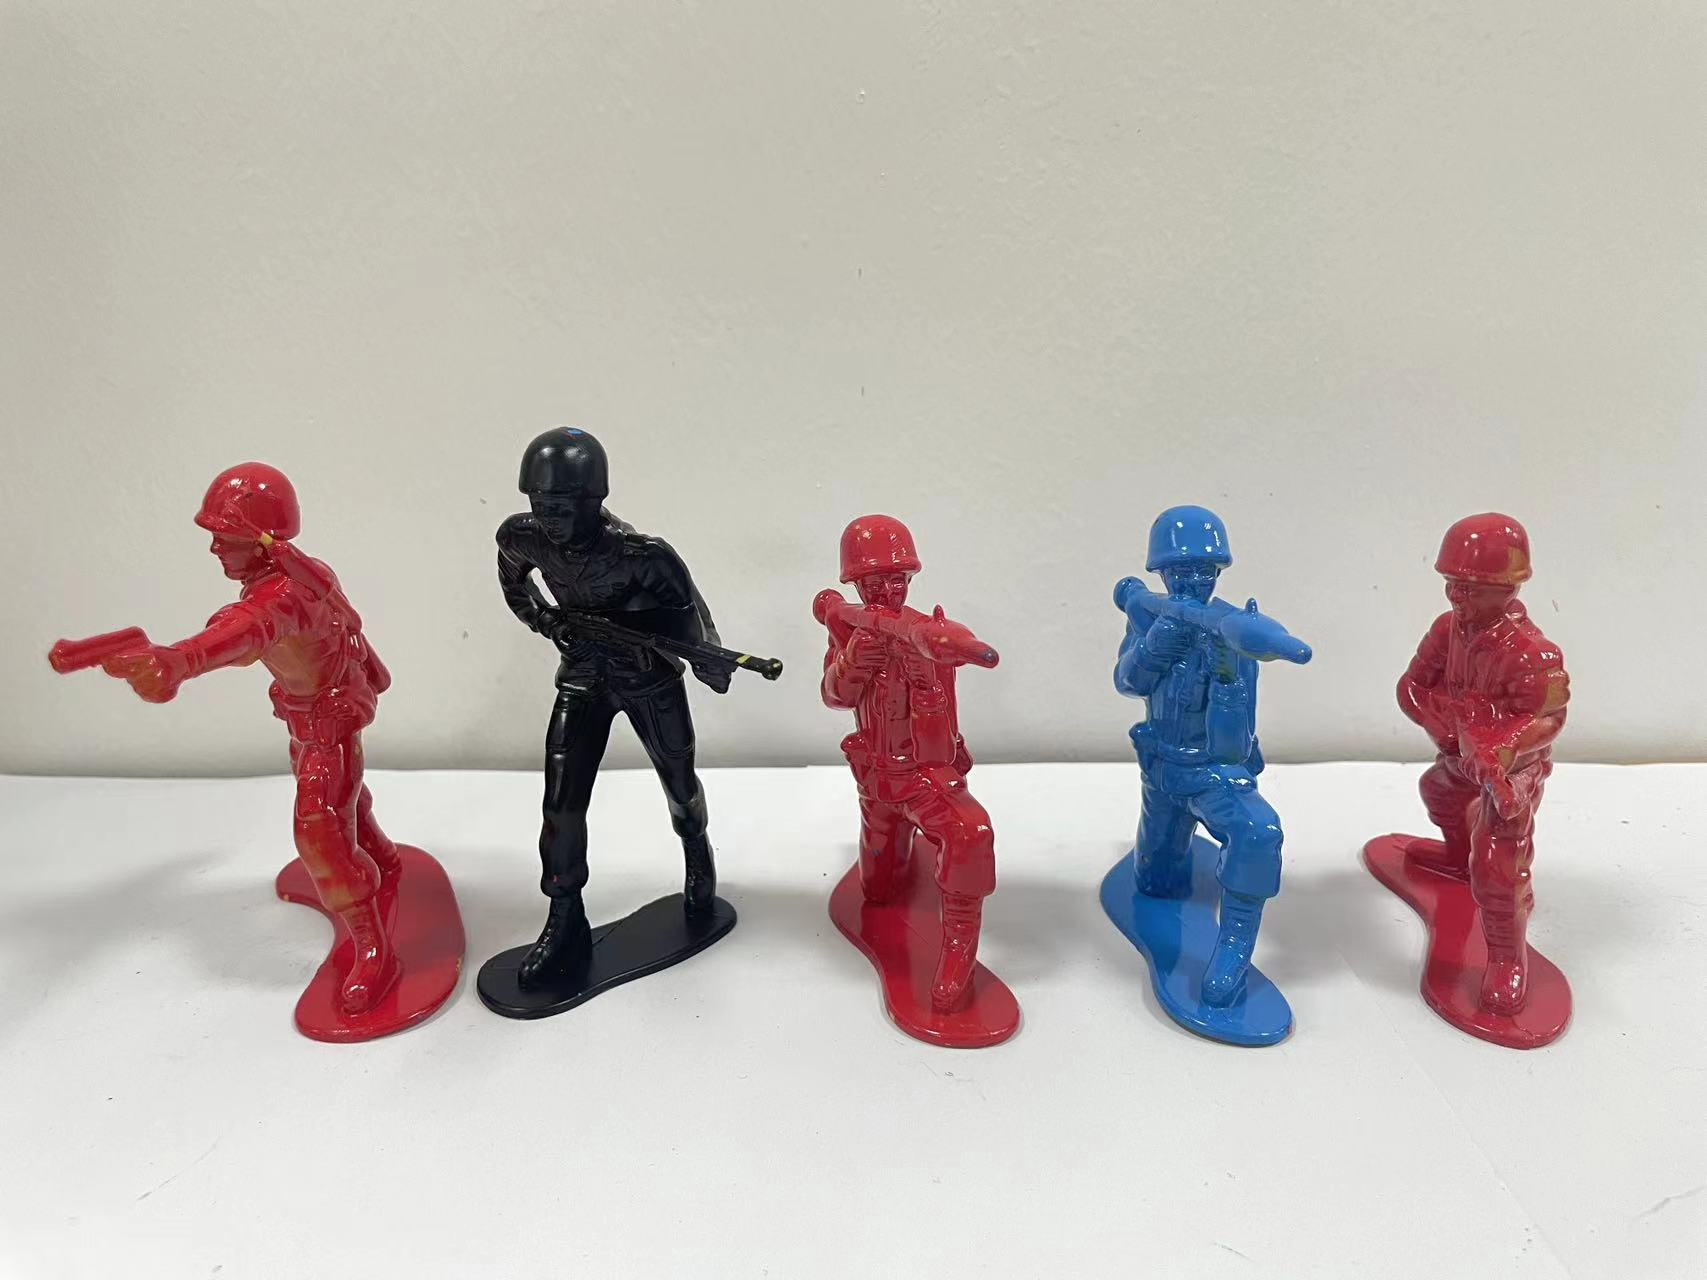black: (472, 394, 796, 1062)
blue: (1098, 484, 1327, 1086)
red: (34, 424, 481, 1072), (1337, 493, 1665, 1101), (784, 469, 1077, 1080)
